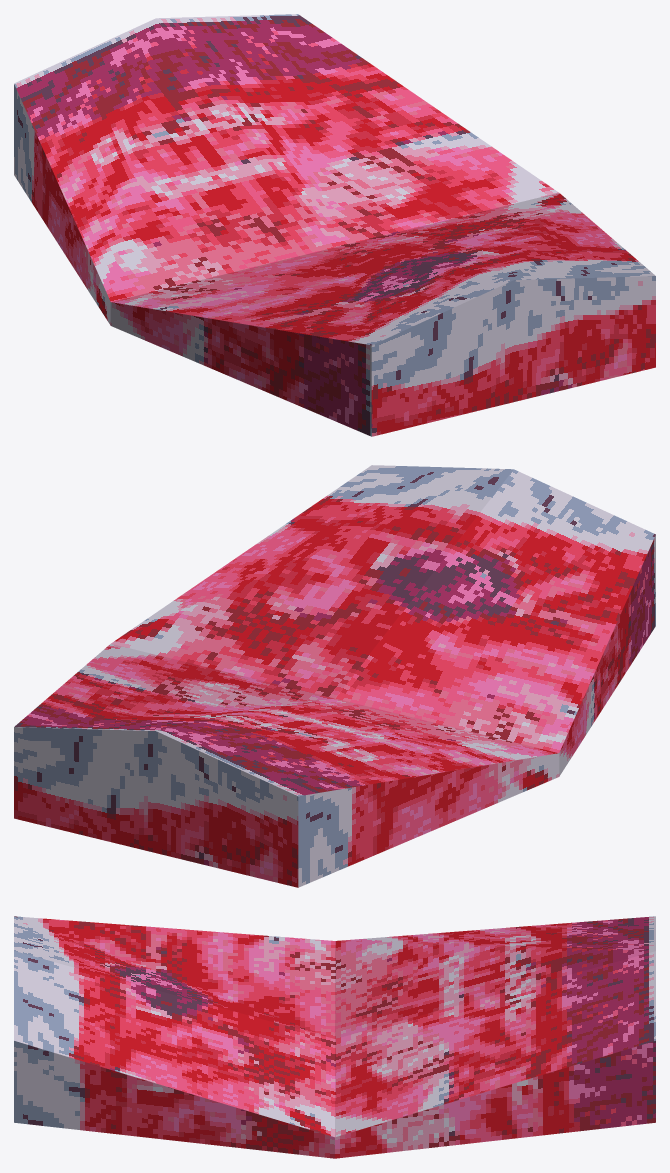
The model's file is psx_crumpled_can.glb.
The picture shows the model from 3 angles, top to bottom: view 1: azimuth 30°, elevation 25°; view 2: azimuth 150°, elevation 25°; view 3: azimuth 270°, elevation 25°; orthographic projection. The views are drawn at different scales.
Parts seen in each view (by area): view 1: Can; view 2: Can; view 3: Can.
Boxes of the visible parts, box(x1,y1,x2,y2) form: Can: box(14, 14, 655, 436); Can: box(14, 465, 655, 887); Can: box(14, 916, 655, 1158).
Bounding box in the file's own units: 0.2209 × 0.0574 × 0.3053.
Materials: 1 (1 with a texture image).
